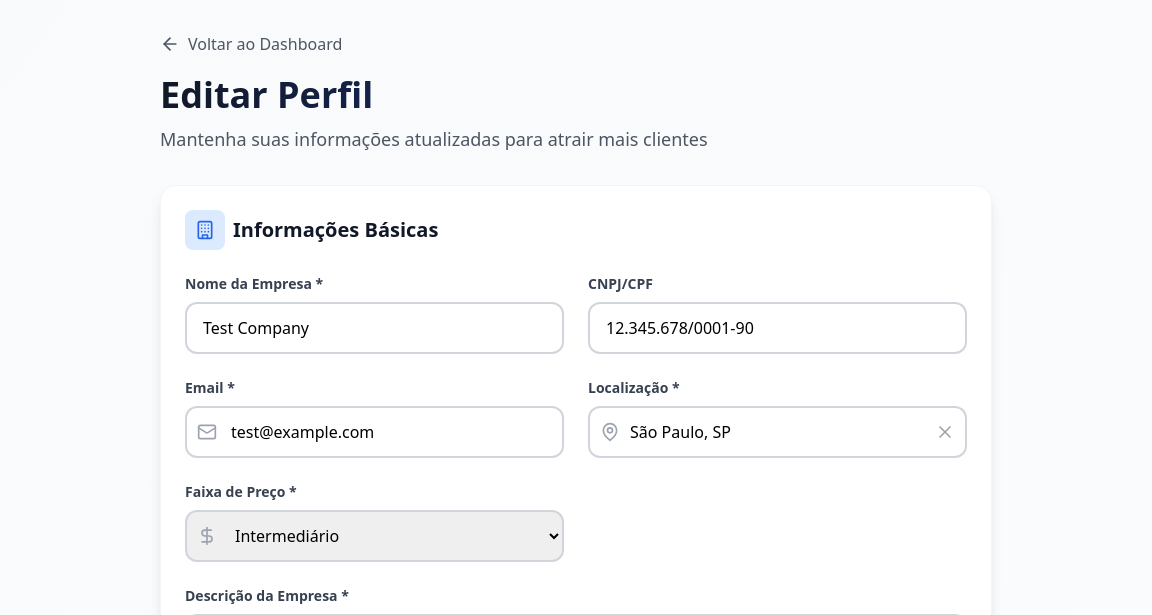
Test case: SupplierProfileEdit › should format CPF correctly
Replace the text in the field with placeholder "000.000.000-00 ou 00.000.000/0000-00" below "CNPJ/CPF" with "12345678901" at (778, 328), box x1=588 y1=302 x2=967 y2=354
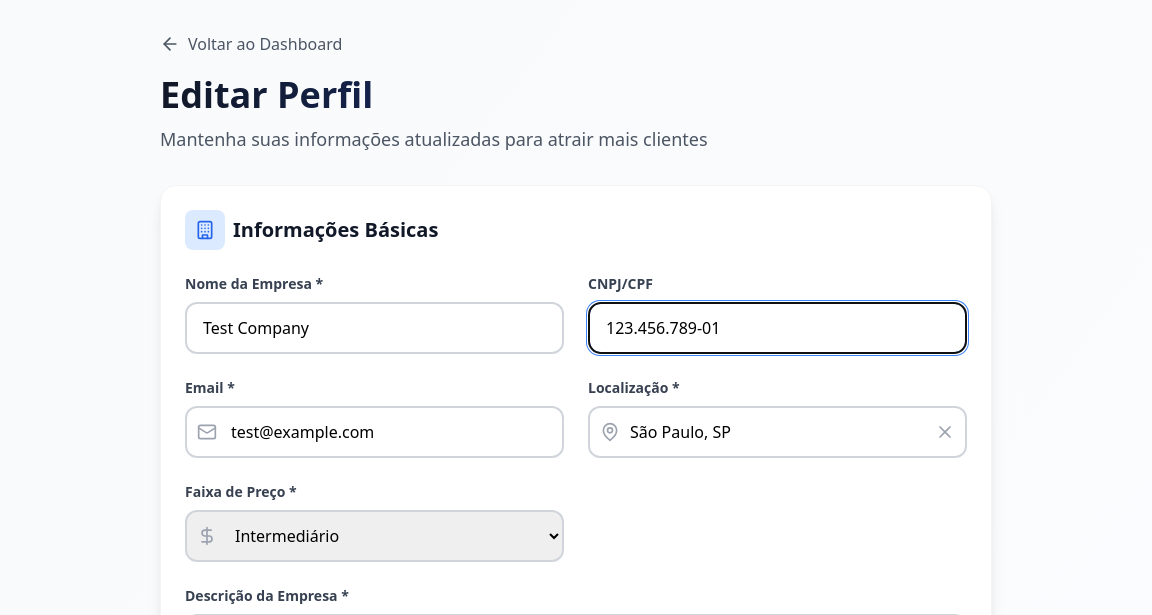
Now the field with placeholder "000.000.000-00 ou 00.000.000/0000-00" below "CNPJ/CPF" holds "123.456.789-01", box x1=588 y1=302 x2=967 y2=354
